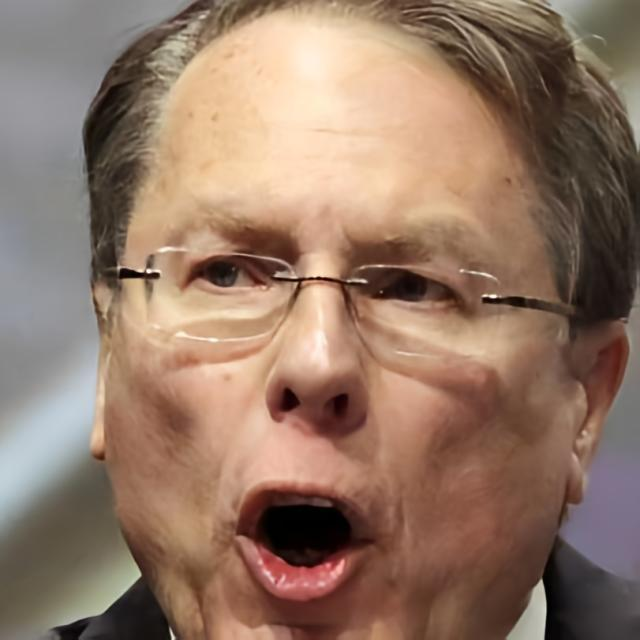anger: (120, 75, 568, 640)
